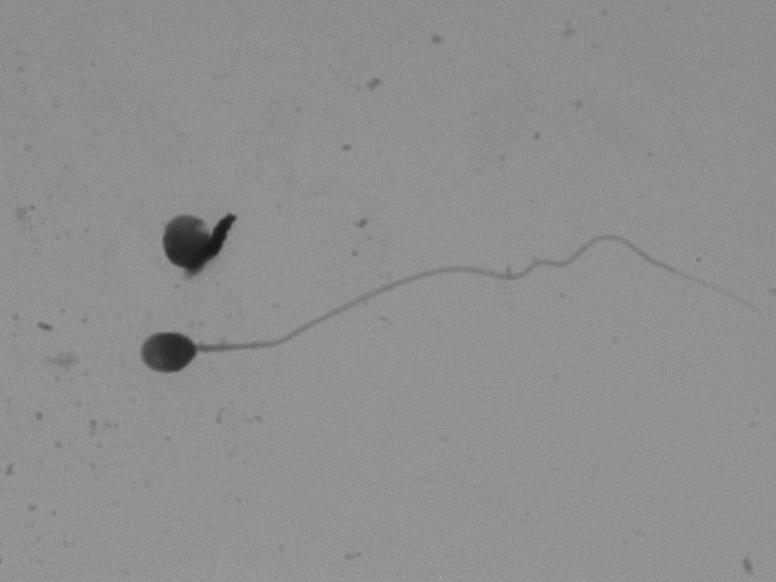Normal: (129, 259, 704, 408)
